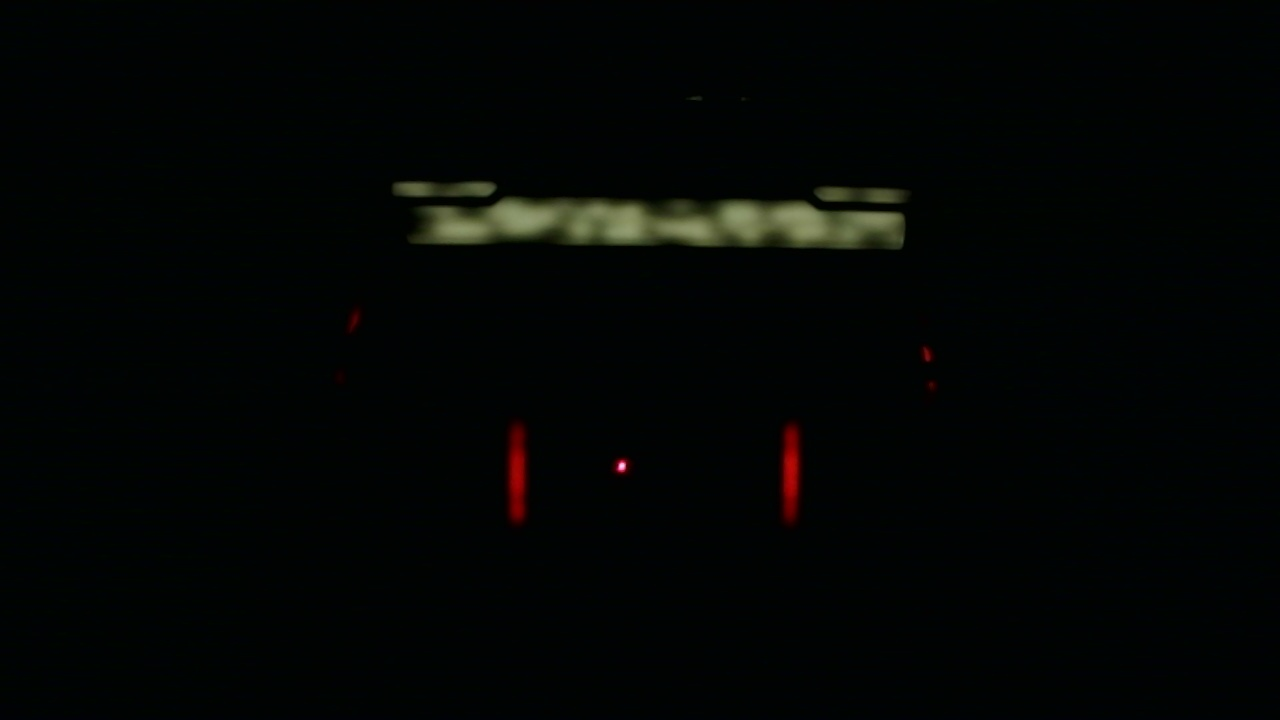lamp: (502, 420, 526, 529), (782, 416, 799, 521)
pair1: (505, 422, 802, 524)
